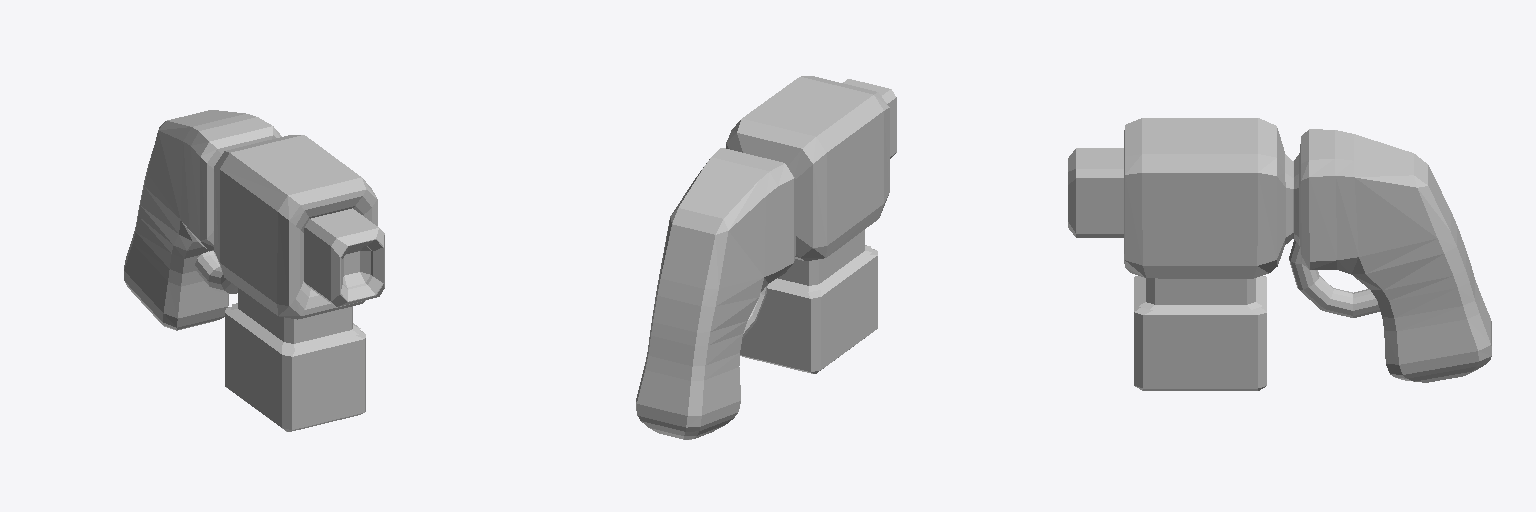
File: DecGun.obj
The picture shows the model from 3 angles: view 1: azimuth 30°, elevation 25°; view 2: azimuth 150°, elevation 25°; view 3: azimuth 270°, elevation 25°; orthographic projection.
Visible parts, largest first — view 1: Cube, Cube.001, Cube.002, Torus; view 2: Cube, Cube.001, Cube.002; view 3: Cube, Cube.001, Cube.002, Torus.
Part boxes in pixels (x1,y1,x2,y2): Cube: (124, 110, 377, 330); Cube.001: (225, 288, 365, 431); Cube.002: (304, 208, 384, 306); Torus: (195, 251, 237, 293); Cube: (636, 76, 889, 439); Cube.001: (740, 230, 877, 373); Cube.002: (843, 79, 896, 158); Cube: (1124, 118, 1491, 382); Cube.001: (1134, 276, 1266, 390); Cube.002: (1068, 148, 1123, 237); Torus: (1289, 240, 1380, 317).
Bounding box in the file's own units: 1.78 × 4.29 × 6.85.